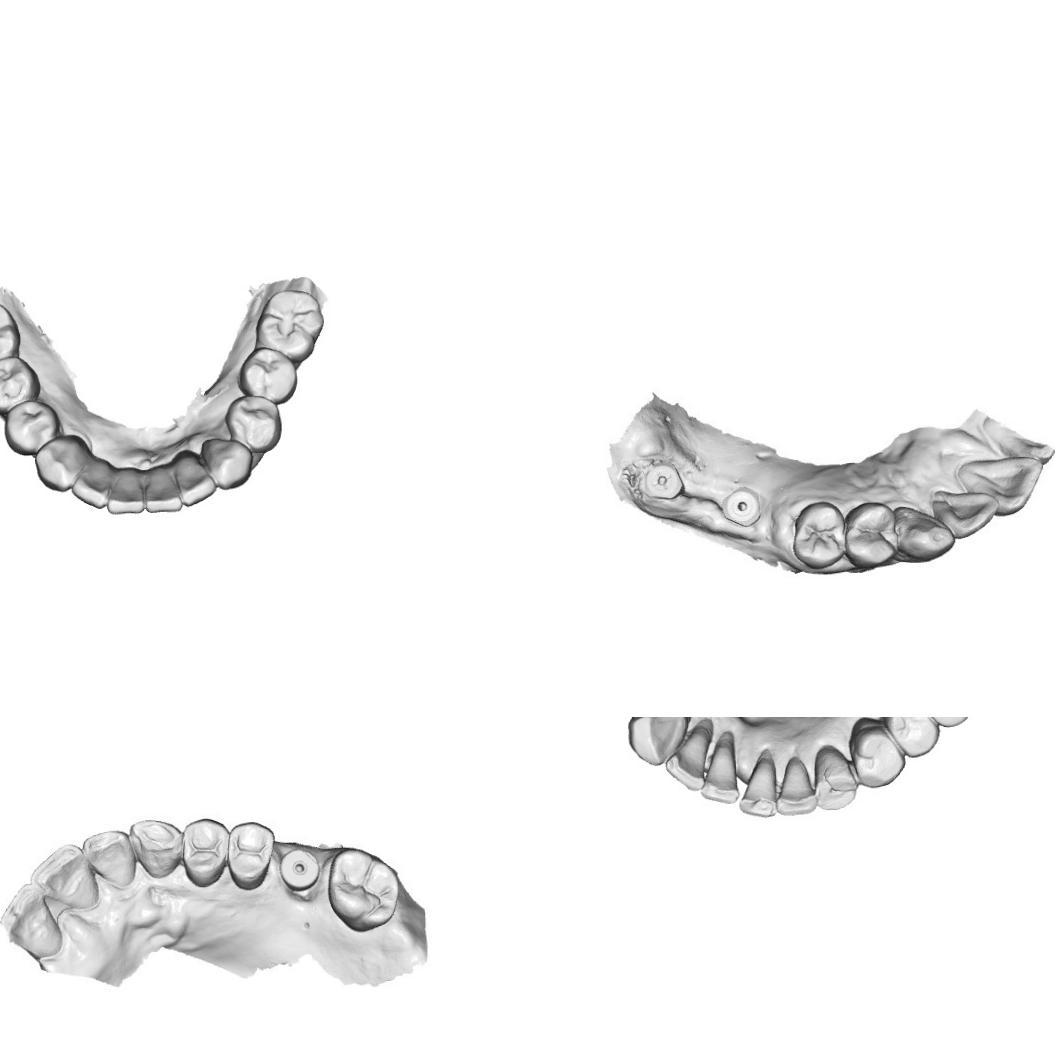canine: (128, 819, 186, 880), (623, 717, 689, 768), (32, 432, 89, 490), (896, 504, 952, 562), (814, 744, 859, 815), (198, 436, 254, 490)
implant: (276, 846, 320, 892), (720, 485, 762, 530)
implant_plus: (641, 463, 681, 504)
incisor: (958, 455, 1046, 512), (0, 881, 59, 956), (30, 842, 96, 909), (81, 826, 137, 888), (663, 726, 710, 794), (695, 738, 741, 806), (738, 748, 780, 822), (774, 756, 820, 820), (936, 487, 991, 535), (175, 451, 218, 509), (104, 460, 148, 516), (68, 457, 114, 510), (142, 464, 188, 514)
molar: (323, 848, 399, 934), (253, 288, 328, 364), (0, 297, 21, 370)
premolar: (846, 717, 905, 791), (234, 344, 300, 409), (842, 500, 898, 570), (224, 392, 286, 454), (0, 397, 61, 456), (179, 817, 228, 888), (793, 502, 845, 566), (229, 821, 274, 892), (880, 717, 939, 760), (0, 355, 41, 414)
